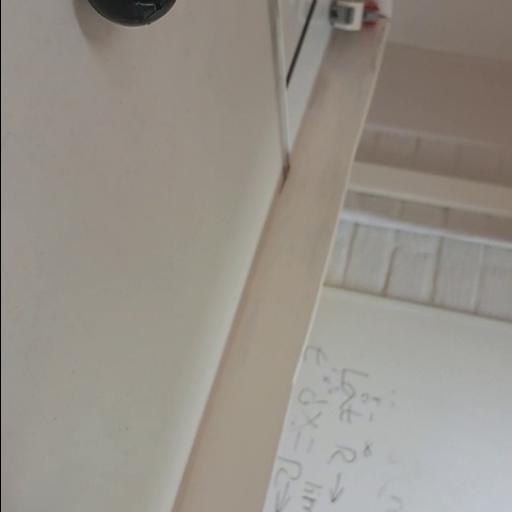dead: (84, 0, 180, 28)
